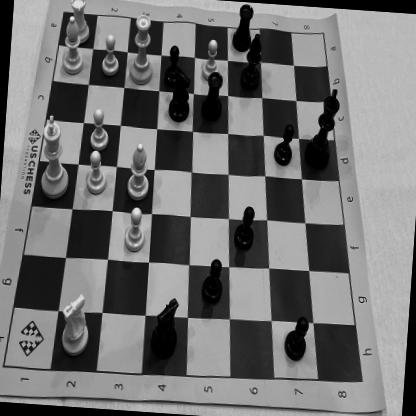black-bishop: (237, 30, 266, 94)
black-king: (302, 82, 344, 174)
black-knight: (148, 290, 184, 365), (166, 67, 195, 126)
black-pawn: (198, 253, 228, 309), (280, 312, 310, 364), (232, 202, 258, 254), (272, 120, 298, 168), (162, 43, 188, 90)
black-rook: (198, 69, 230, 124), (230, 3, 258, 56)
white-bishop: (123, 139, 154, 204), (58, 14, 88, 77)
white-king: (33, 111, 76, 203)
white-knight: (56, 288, 96, 362)
white-pawn: (120, 202, 151, 256), (80, 147, 110, 198), (97, 30, 125, 82), (198, 34, 226, 84), (86, 104, 112, 153)
white-queen: (124, 10, 159, 90)
white-rook: (63, 0, 96, 46)
